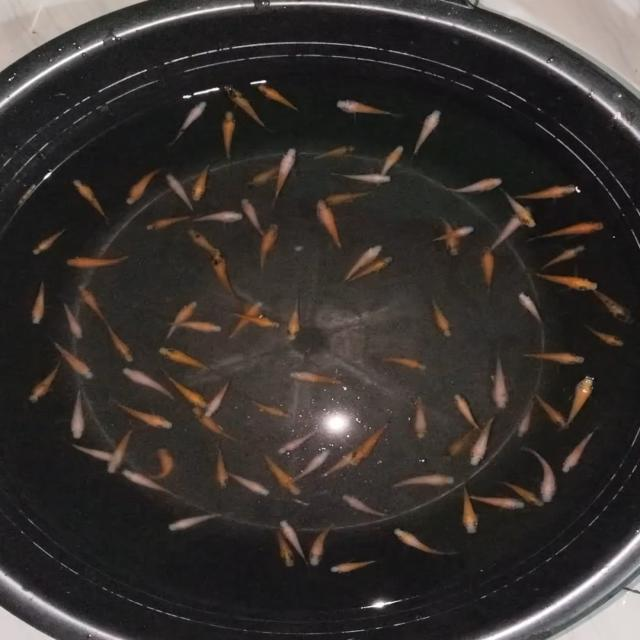nila: (388, 526, 466, 556), (188, 402, 240, 444), (225, 82, 268, 132), (116, 366, 180, 399), (352, 421, 394, 470), (560, 376, 599, 428), (118, 400, 180, 432), (526, 444, 558, 506), (53, 338, 96, 384), (206, 247, 241, 303), (120, 166, 164, 210), (270, 146, 302, 206), (332, 98, 411, 122), (72, 177, 110, 226), (591, 288, 639, 326), (560, 430, 598, 478), (348, 254, 403, 287), (167, 100, 208, 144), (438, 426, 482, 467), (492, 204, 531, 250), (261, 454, 303, 496), (341, 242, 384, 283), (454, 473, 480, 539), (382, 472, 460, 494), (30, 360, 67, 406), (528, 268, 598, 292), (494, 478, 550, 508), (104, 426, 136, 478), (226, 296, 267, 336), (304, 522, 338, 570), (413, 108, 444, 160), (197, 377, 236, 418), (341, 492, 397, 520), (166, 369, 206, 408), (531, 219, 609, 239), (163, 510, 228, 534), (468, 418, 499, 468), (120, 466, 175, 494), (316, 200, 348, 248), (159, 302, 197, 342), (292, 448, 335, 483), (257, 82, 304, 114), (160, 346, 213, 374), (488, 351, 512, 412), (503, 191, 541, 228), (280, 517, 314, 558), (105, 322, 138, 364), (63, 251, 135, 270), (225, 308, 282, 332), (312, 448, 357, 478), (518, 182, 579, 204), (166, 170, 197, 213), (283, 292, 309, 342), (440, 173, 505, 193), (285, 366, 350, 386), (142, 212, 201, 234), (258, 222, 285, 270), (517, 290, 551, 328), (542, 243, 586, 272), (166, 316, 226, 337), (193, 207, 249, 229), (66, 388, 90, 439), (464, 492, 532, 510), (452, 390, 482, 430), (60, 298, 86, 344), (520, 348, 586, 366), (180, 227, 222, 255), (229, 472, 274, 498), (78, 286, 110, 322), (274, 430, 320, 455), (438, 215, 464, 258), (409, 394, 432, 442), (587, 324, 626, 352), (148, 443, 176, 482), (479, 243, 498, 300), (67, 442, 121, 462), (29, 229, 67, 257), (538, 394, 566, 432), (332, 170, 398, 186), (515, 396, 538, 440), (318, 189, 377, 206), (324, 557, 382, 574), (190, 166, 215, 205), (274, 530, 298, 570), (378, 146, 406, 180), (428, 226, 478, 245), (308, 144, 360, 162), (220, 110, 238, 160), (378, 353, 428, 371), (243, 196, 264, 237), (213, 442, 231, 489), (250, 398, 294, 417), (434, 298, 454, 339), (32, 280, 48, 328), (250, 166, 280, 188)
